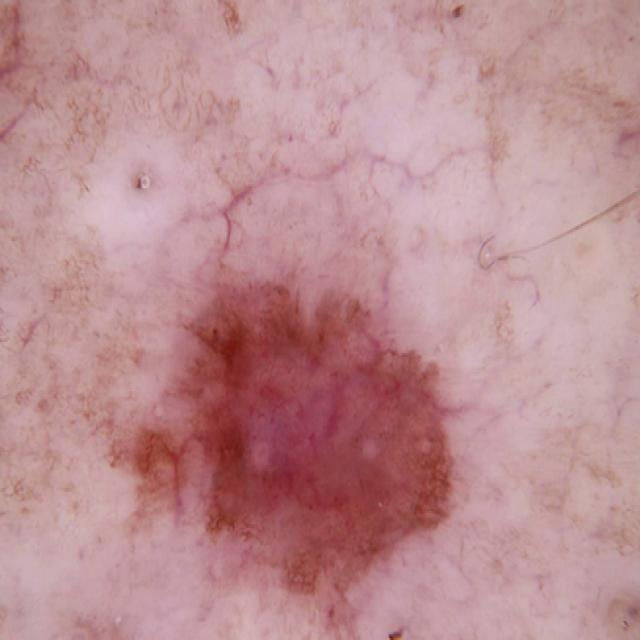Keratosis: (130, 242, 486, 620), (0, 21, 141, 209)
